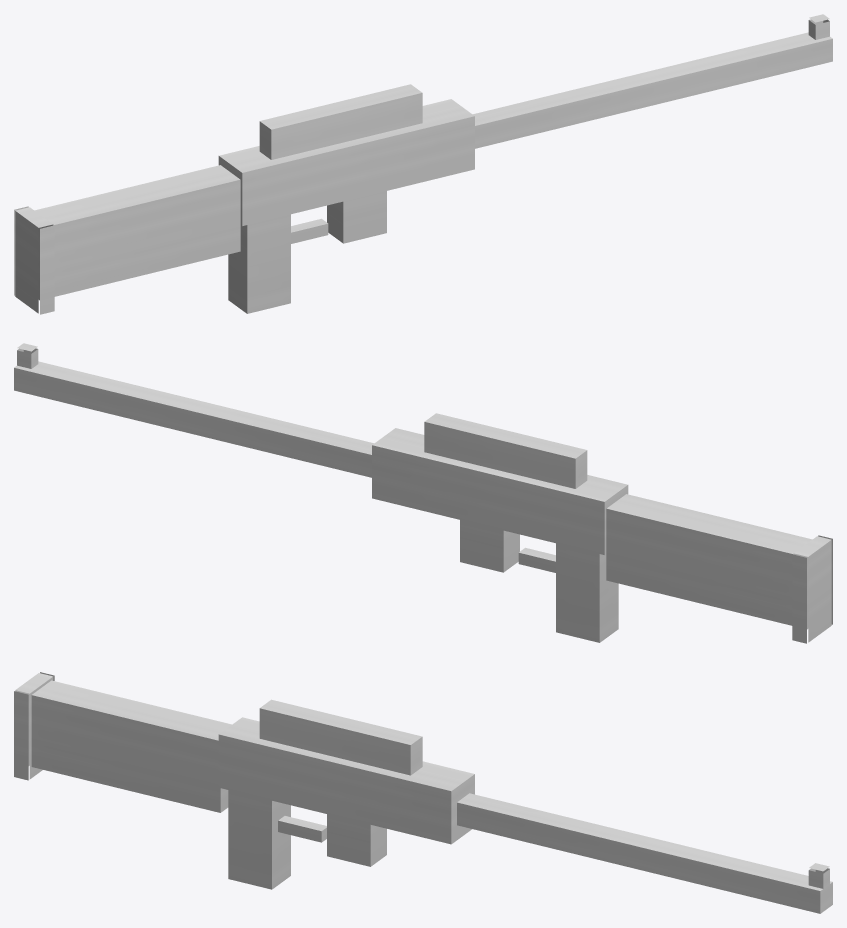
Rendered from sniper_rifle.obj.
The picture shows the model from 3 angles, top to bottom: view 1: azimuth 30°, elevation 25°; view 2: azimuth 150°, elevation 25°; view 3: azimuth 330°, elevation 25°; orthographic projection.
Visible parts, largest first — view 1: sniper_rifle; view 2: sniper_rifle; view 3: sniper_rifle.
Boxes of the visible parts, x1,y1,x2,y2 form: sniper_rifle: [14, 14, 832, 314]; sniper_rifle: [14, 343, 832, 643]; sniper_rifle: [14, 672, 832, 913].
Bounding box in the file's own units: 1.1 × 0.23 × 0.062.
